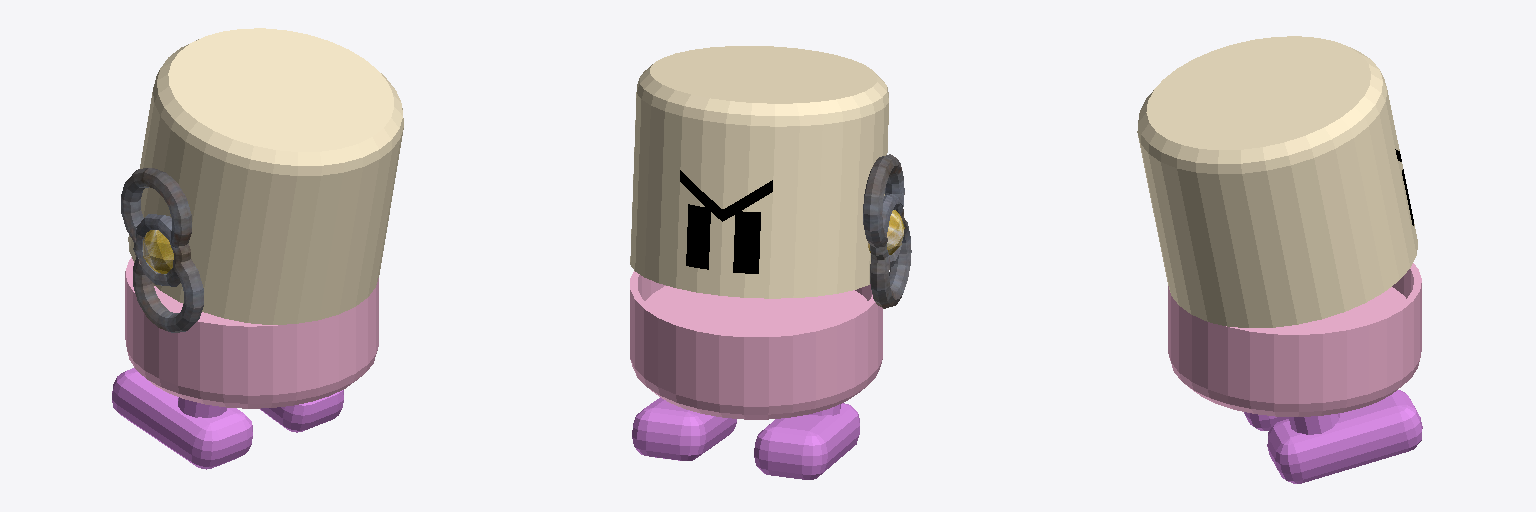
3 views of the same model, side by side, from view 1: azimuth 30°, elevation 25°; view 2: azimuth 150°, elevation 25°; view 3: azimuth 270°, elevation 25° (orthographic).
Parts seen in each view (by area): view 1: Head, Jaw, WindupKey, LeftLeg, RightLeg; view 2: Head, Jaw, LeftLeg, WindupKey, RightLeg; view 3: Head, Jaw, RightLeg.
Boxes of the visible parts, x1=… form: Head: x1=128, y1=28, x2=403, y2=324; Jaw: x1=125, y1=257, x2=378, y2=408; WindupKey: x1=121, y1=168, x2=203, y2=332; LeftLeg: x1=112, y1=368, x2=252, y2=469; RightLeg: x1=260, y1=390, x2=343, y2=432; Head: x1=630, y1=46, x2=888, y2=298; Jaw: x1=630, y1=271, x2=882, y2=419; LeftLeg: x1=754, y1=403, x2=859, y2=479; WindupKey: x1=863, y1=154, x2=911, y2=308; RightLeg: x1=632, y1=397, x2=736, y2=460; Head: x1=1137, y1=36, x2=1417, y2=327; Jaw: x1=1168, y1=263, x2=1421, y2=416; RightLeg: x1=1267, y1=390, x2=1422, y2=483.
Size of the model in its own units: 112 by 164 by 112.
Materials: 6 (2 with a texture image).